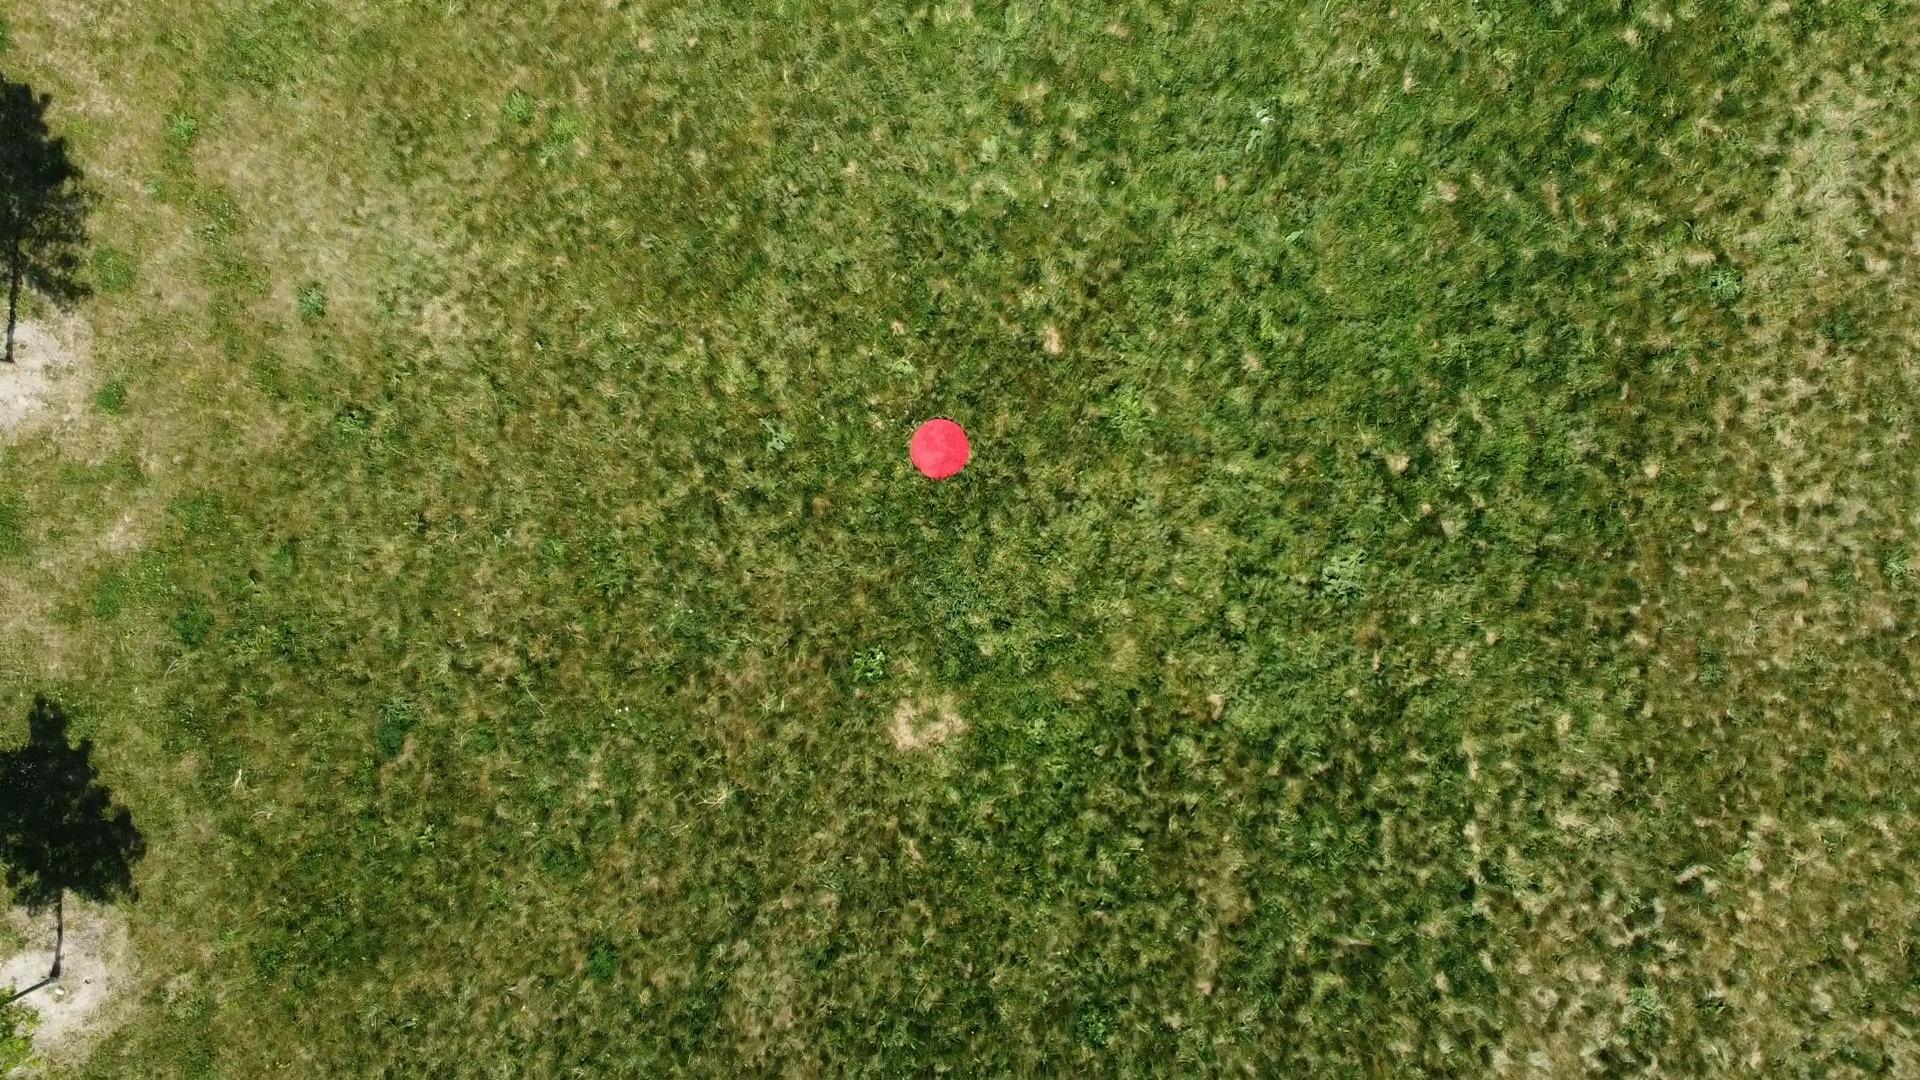Red: (907, 414, 972, 481)
